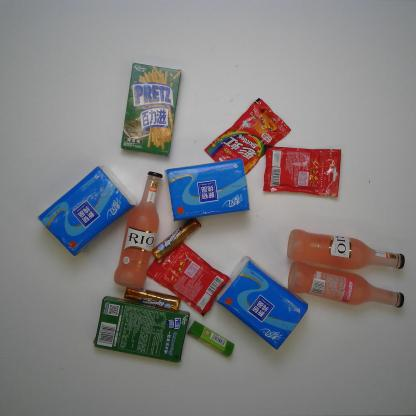Alcohol: (286, 258, 406, 311), (112, 170, 164, 290), (284, 227, 408, 273)
Candy: (202, 96, 292, 180), (144, 241, 232, 319), (261, 142, 343, 200), (150, 216, 203, 262), (122, 286, 182, 314)
Dessert: (90, 294, 192, 365), (117, 61, 184, 160)
Stationery: (185, 318, 237, 361)
Tissue: (212, 252, 312, 353), (35, 163, 140, 258), (163, 156, 252, 224)
